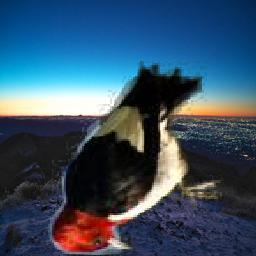Woodpecker: (46, 61, 222, 255)
